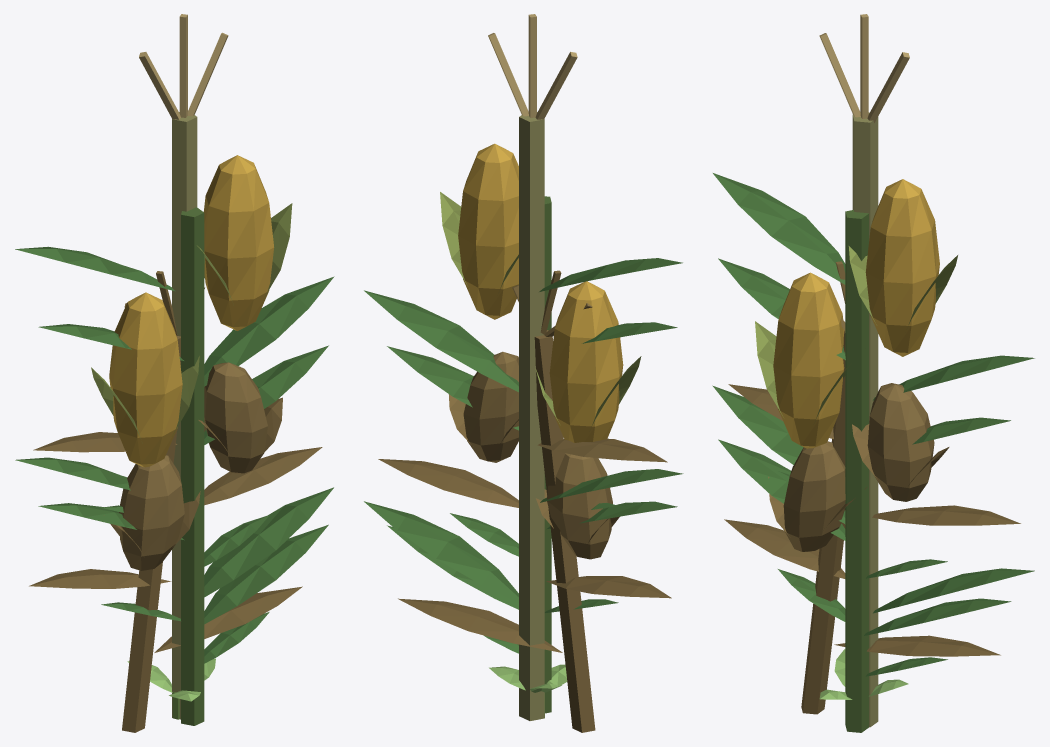
Rendered from summer_corn.glb.
3 views of the same model, side by side, from view 1: azimuth 30°, elevation 25°; view 2: azimuth 150°, elevation 25°; view 3: azimuth 330°, elevation 25° (orthographic).
Parts seen in each view (by area): view 1: stage3, dead, stage2, stage1, stage0; view 2: stage3, dead, stage2, stage1, stage0; view 3: stage3, dead, stage2, stage1, stage0.
Part boxes in pixels (bbox=[...]): stage3: bbox=[15, 14, 334, 719]; dead: bbox=[29, 271, 322, 732]; stage2: bbox=[38, 207, 328, 725]; stage1: bbox=[101, 505, 269, 663]; stage0: bbox=[127, 658, 215, 719]; stage3: bbox=[364, 14, 683, 720]; dead: bbox=[378, 270, 671, 732]; stage2: bbox=[387, 196, 677, 713]; stage1: bbox=[450, 503, 618, 653]; stage0: bbox=[489, 664, 567, 717]; stage3: bbox=[712, 14, 1034, 727]; dead: bbox=[724, 261, 1020, 714]; stage2: bbox=[718, 210, 1011, 732]; stage1: bbox=[778, 471, 947, 676]; stage0: bbox=[819, 649, 908, 699].
Bounding box in the file's own units: 0.7 × 1.46 × 0.1742.
